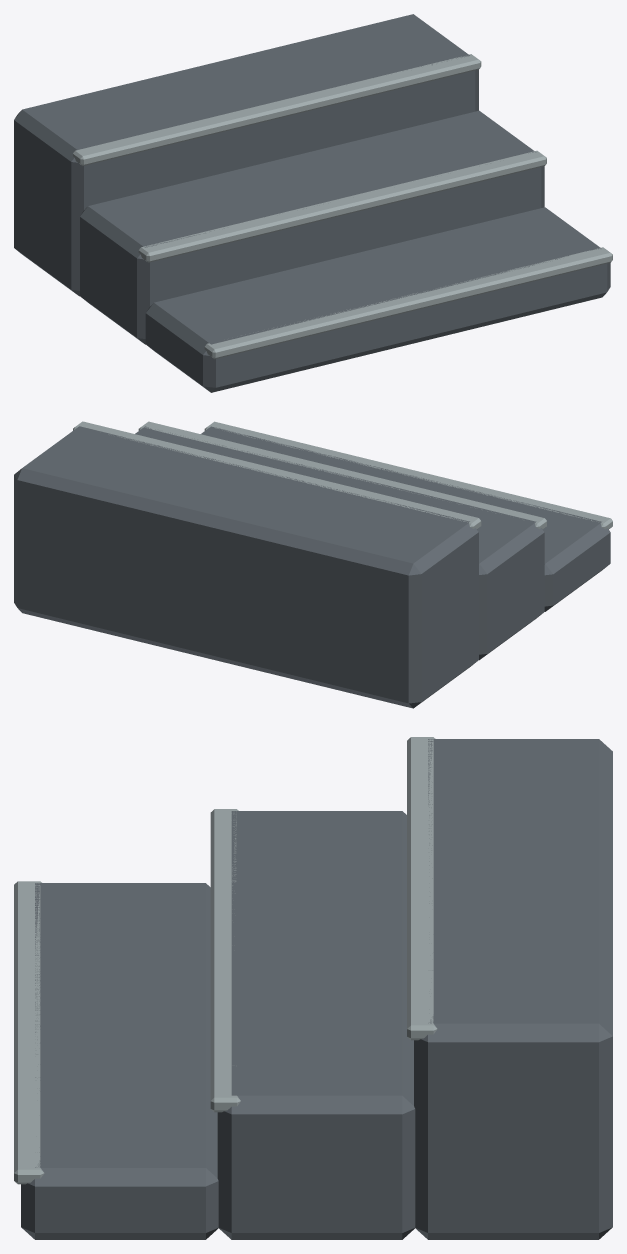
Rendered from 11_Three_Stone_Steps.glb.
3 views of the same model, one above another, from view 1: azimuth 30°, elevation 25°; view 2: azimuth 150°, elevation 25°; view 3: azimuth 270°, elevation 25° (orthographic). The views are drawn at different scales.
Visible parts, largest first — view 1: 11_Three_Stone_Steps__Body; view 2: 11_Three_Stone_Steps__Body; view 3: 11_Three_Stone_Steps__Body.
Part boxes in pixels (left/top/right/bottom): 11_Three_Stone_Steps__Body: left=14, top=14, right=612, bottom=392; 11_Three_Stone_Steps__Body: left=14, top=421, right=612, bottom=708; 11_Three_Stone_Steps__Body: left=14, top=737, right=612, bottom=1239.
Size of the model in its own units: 3 by 1.02 by 2.56.
Materials: 1 (1 with a texture image).
